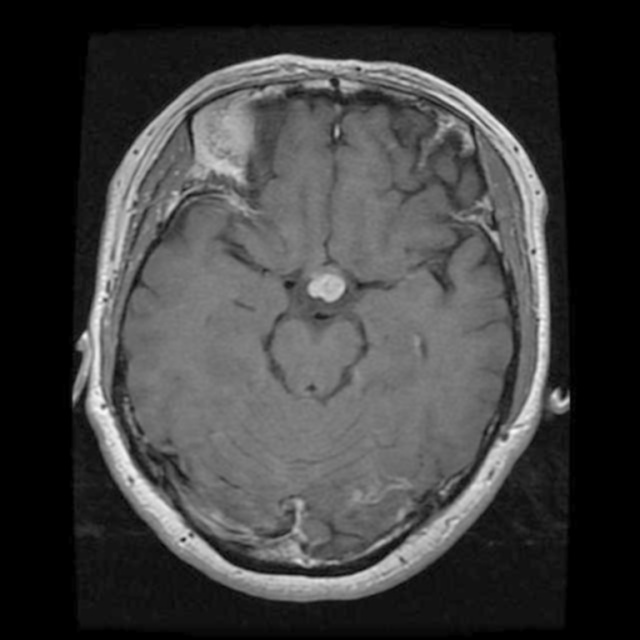no tumor: (299, 274, 349, 301)
